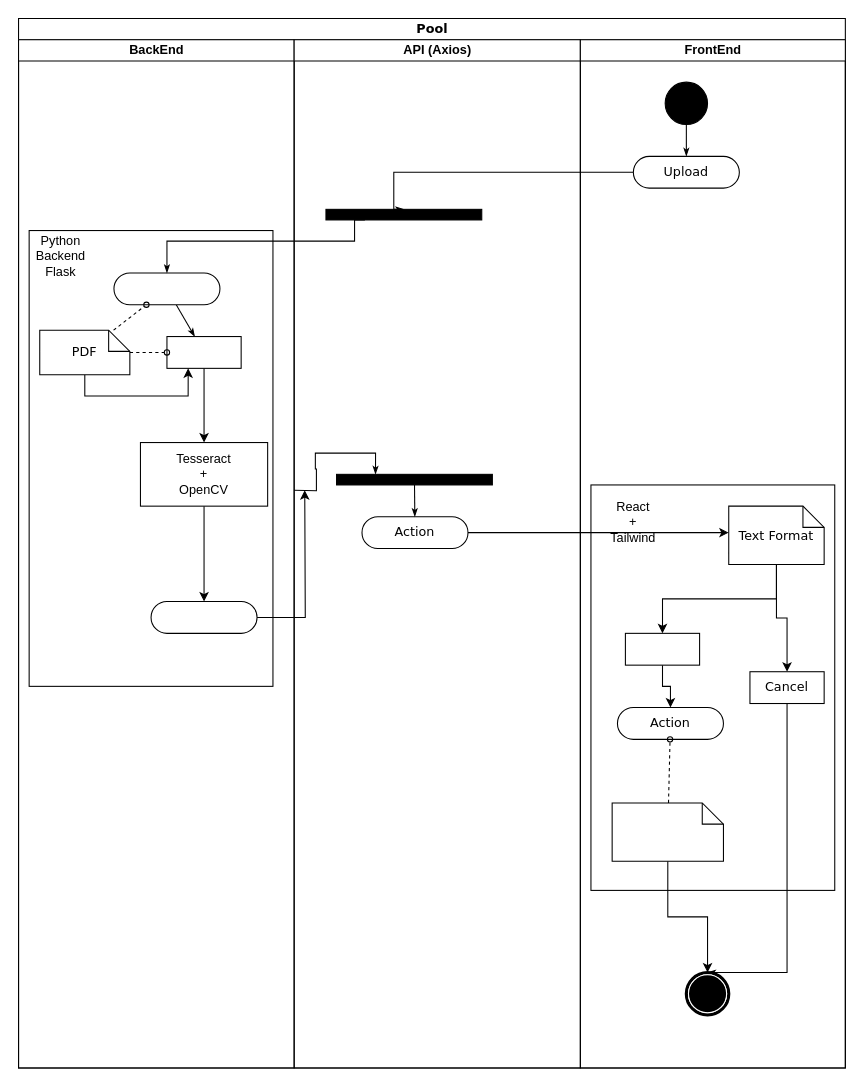
Image size: 864x1087. Some labels were removed from this diagram. The centre of each missing label's shape, as x and y in pixels:
"Editable" belongs at (x=662, y=648).
"File" belongs at (x=166, y=288).
"Image" belongs at (x=203, y=351).
"List of String" belongs at (x=203, y=616).
"Save" belongs at (x=667, y=831).
